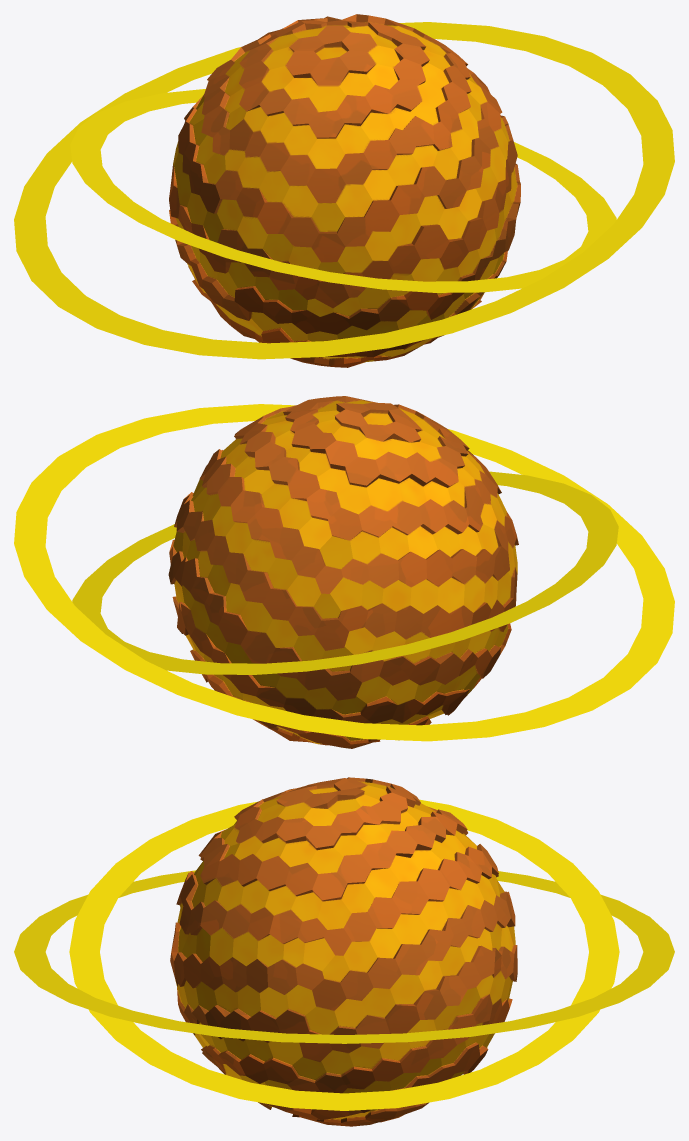
Rendered from планета 1.fbx.
3 views of the same model, one above another, from view 1: azimuth 30°, elevation 25°; view 2: azimuth 150°, elevation 25°; view 3: azimuth 270°, elevation 25° (orthographic).
Visible parts, largest first — view 1: планета 1; view 2: планета 1; view 3: планета 1.
Part boxes in pixels (<box>): планета 1: <box>14,14,674,367</box>; планета 1: <box>14,396,674,748</box>; планета 1: <box>14,777,674,1126</box>.
Size of the model in its own units: 1276 by 684 by 1292.
